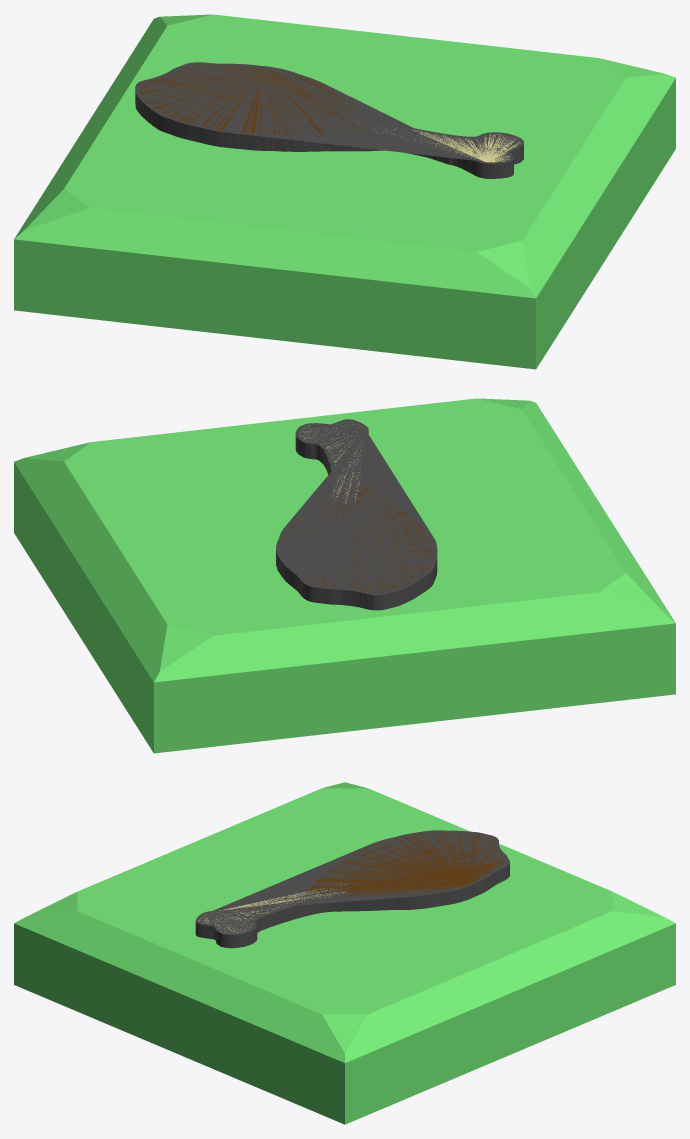
File: TileMid-Chicken.fbx
The picture shows the model from 3 angles, top to bottom: view 1: azimuth 30°, elevation 25°; view 2: azimuth 150°, elevation 25°; view 3: azimuth 270°, elevation 25°; orthographic projection. The views are drawn at different scales.
Parts seen in each view (by area): view 1: Tavukmid; view 2: Tavukmid; view 3: Tavukmid.
Part boxes in pixels (<box>): Tavukmid: <box>14,14,675,369</box>; Tavukmid: <box>14,398,675,753</box>; Tavukmid: <box>14,782,675,1124</box>.
Size of the model in its own units: 174 by 28.04 by 174.
